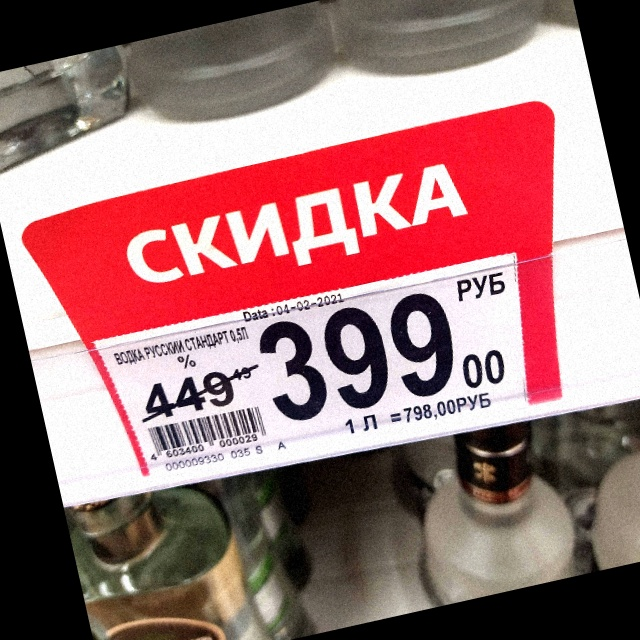barcode: (148, 405, 268, 461)
name: (112, 323, 249, 365)
price: (258, 292, 505, 423)
price_tag: (90, 255, 532, 474)
